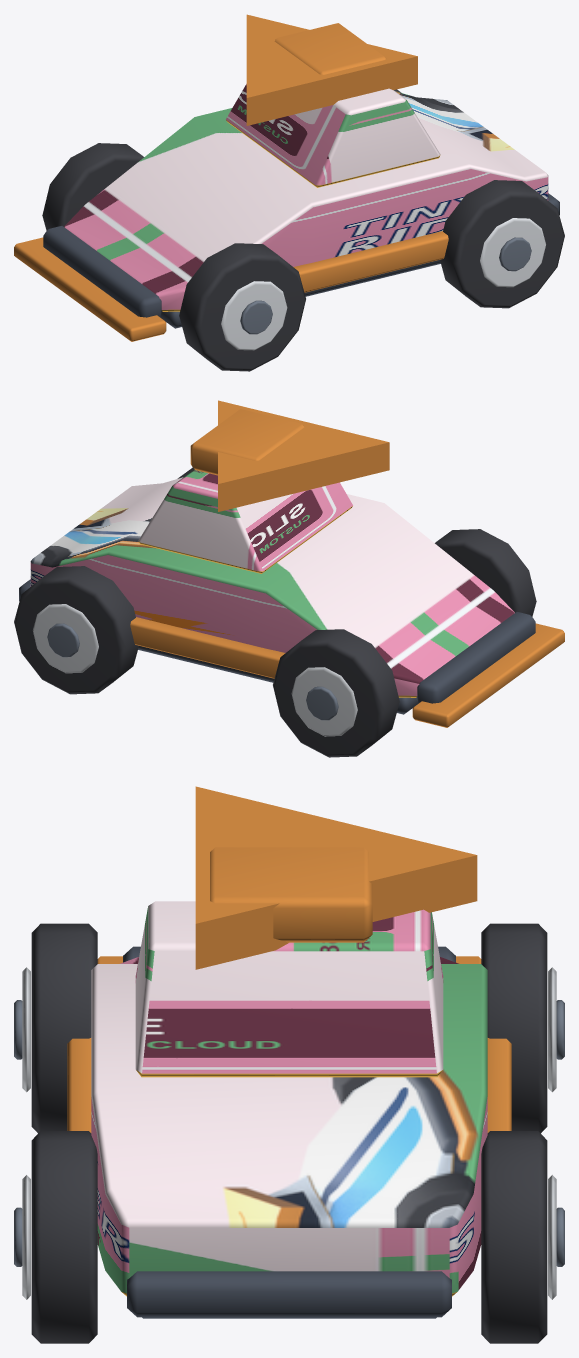
The picture shows the model from 3 angles, top to bottom: view 1: azimuth 30°, elevation 25°; view 2: azimuth 150°, elevation 25°; view 3: azimuth 270°, elevation 25°; orthographic projection. The views are drawn at different scales.
Parts seen in each view (by area): view 1: SS-02_connected_shell, SS-02_cabin, flat pizza wedge, Tire, Tire.002, Tire.001, custom chin, custom side guard, front bumper, custom equipment, Rim, Rim.002 (+3 smaller); view 2: SS-02_connected_shell, SS-02_cabin, flat pizza wedge, Tire.001, Tire.003, Tire, custom chin, custom side guard.001, custom equipment, front bumper, Rim.001, Rim.003 (+3 smaller); view 3: SS-02_connected_shell, SS-02_cabin, flat pizza wedge, rear bumper, Tire.002, Tire.003, custom equipment, Tire, Tire.001, custom side guard, custom side guard.001, Rim (+3 smaller).
Part boxes in pixels (x1,y1,x2,y2): SS-02_connected_shell: (64, 91, 548, 311); SS-02_cabin: (226, 84, 440, 187); flat pizza wedge: (246, 14, 417, 125); Tire: (179, 243, 305, 371); Tire.002: (440, 180, 564, 308); Tire.001: (42, 143, 143, 230); custom chin: (14, 237, 166, 341); custom side guard: (293, 231, 448, 292); front bumper: (43, 226, 162, 317); custom equipment: (274, 23, 386, 74); Rim: (221, 281, 287, 350); Rim.002: (480, 218, 545, 287); SS-02_connected_shell: (30, 477, 514, 697); SS-02_cabin: (138, 469, 352, 573); flat pizza wedge: (218, 400, 389, 511); Tire.001: (273, 629, 399, 757); Tire.003: (14, 566, 138, 694); Tire: (435, 529, 536, 616); custom chin: (412, 623, 564, 727); custom side guard.001: (130, 617, 285, 678); custom equipment: (190, 409, 304, 475); front bumper: (416, 612, 535, 703); Rim.001: (291, 667, 357, 736); Rim.003: (33, 604, 98, 673); SS-02_connected_shell: (91, 957, 487, 1296); SS-02_cabin: (135, 901, 443, 1077); flat pizza wedge: (195, 786, 477, 969); rear bumper: (127, 1271, 451, 1317); Tire.002: (31, 1131, 97, 1343); Tire.003: (481, 1131, 547, 1343); custom equipment: (210, 847, 372, 942); Tire: (31, 923, 97, 1133); Tire.001: (481, 923, 547, 1133); custom side guard: (67, 1038, 91, 1132); custom side guard.001: (487, 1038, 511, 1132); Rim: (22, 967, 30, 1092).
Bounding box in the file's own units: 330 × 165 × 217.
